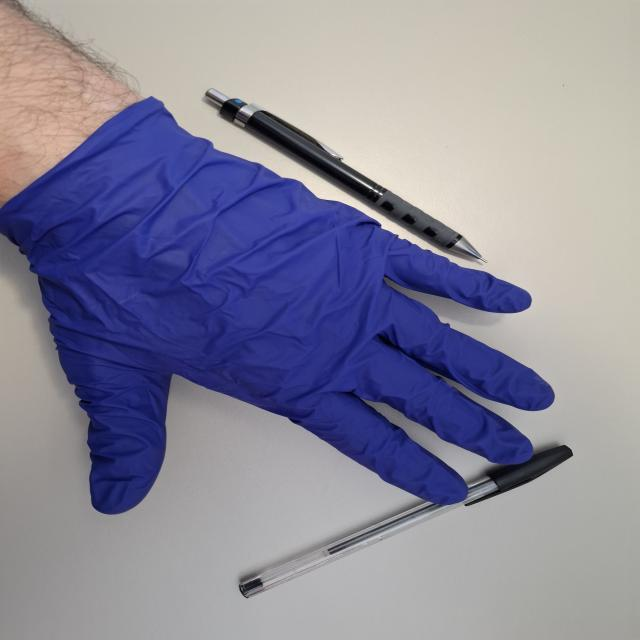glove_on: (1, 93, 558, 518)
